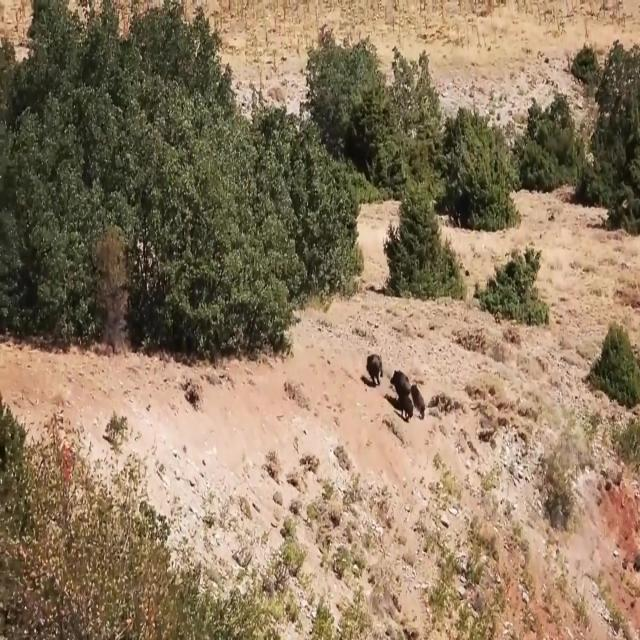pig: (408, 380, 431, 428), (363, 342, 386, 386), (387, 369, 416, 401), (393, 392, 419, 424)
